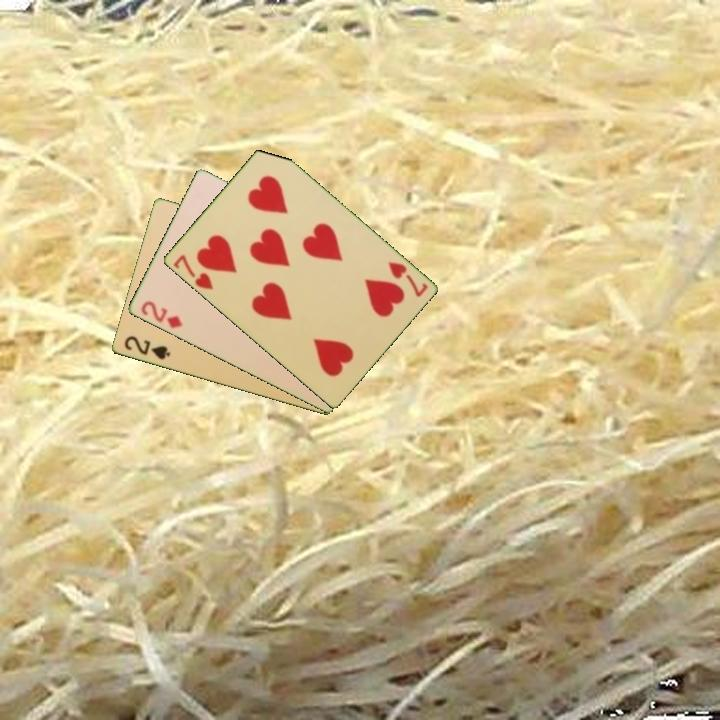2d: (137, 297, 185, 332)
2s: (120, 333, 173, 363)
7h: (169, 251, 216, 293), (384, 258, 431, 300)
